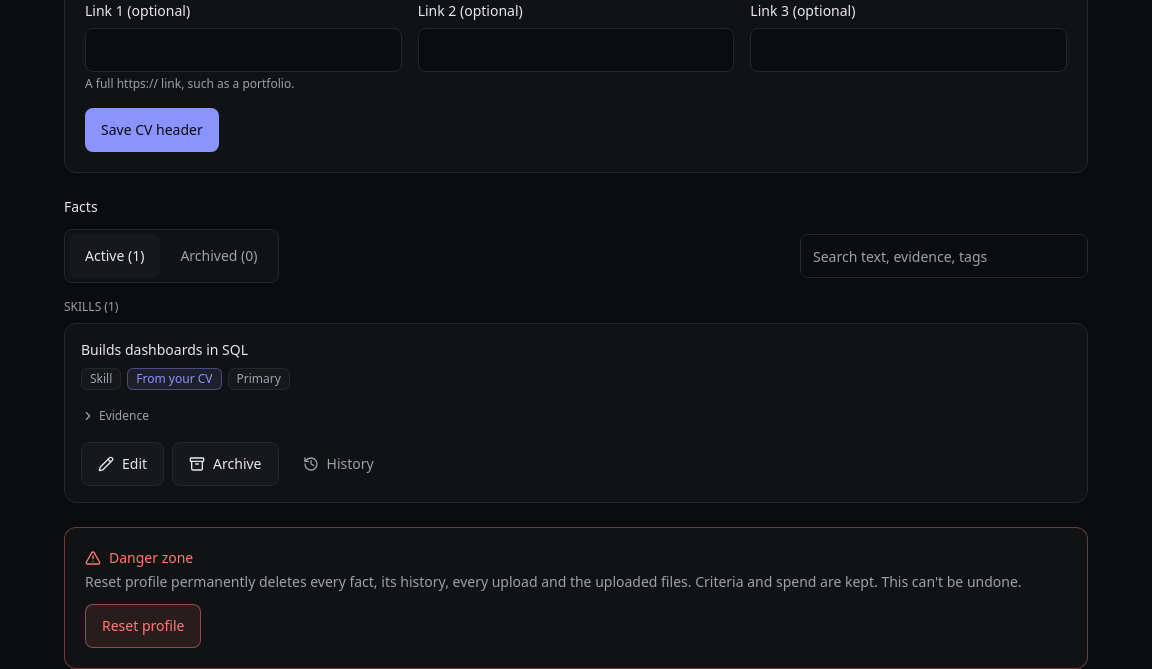
Scenario: Profile facts › shows a fact history, newest first
(page scrolled)
Step 1. Click the button "History" → click(338, 464), box [286,442,390,486]
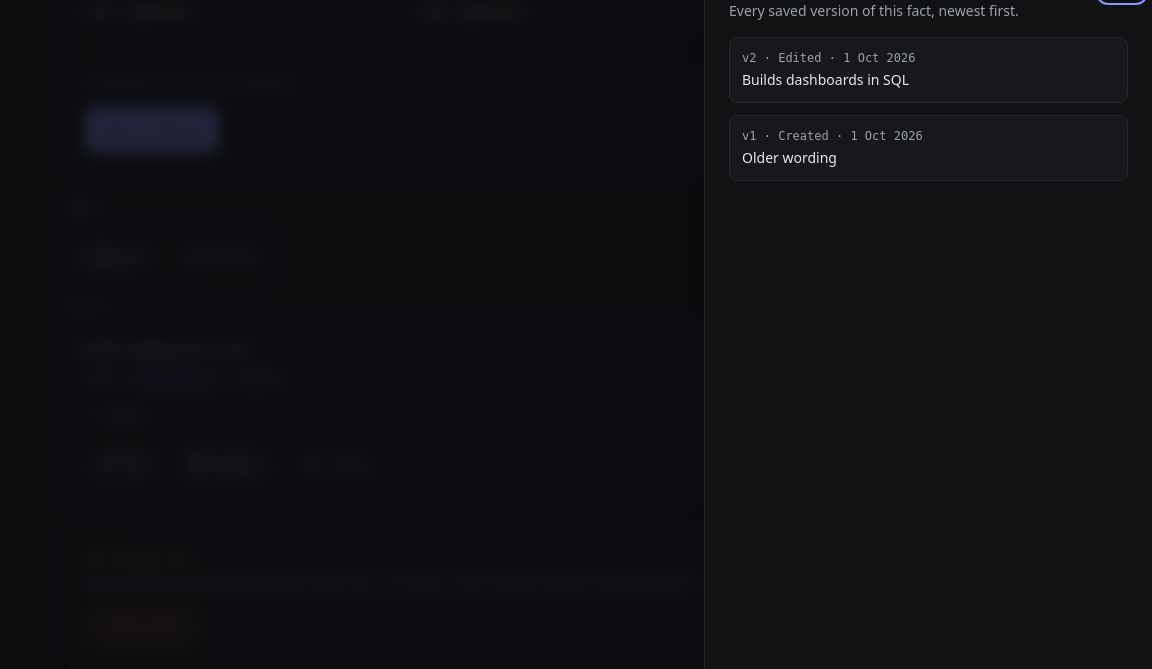
Result: the list item "v2 · Edited · 1 Oct 2026 Builds dashboards in SQL" is shown at [729,37,1128,103]
Result: the list item "v1 · Created · 1 Oct 2026 Older wording" is shown at [729,115,1128,181]
